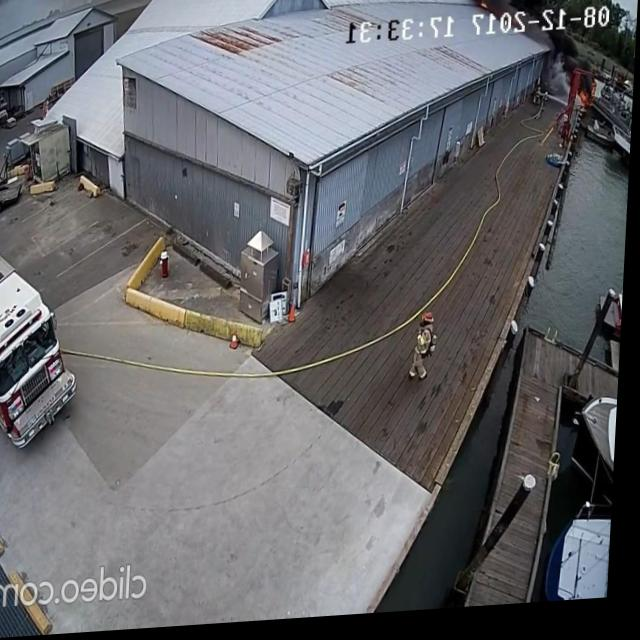fire: (579, 87, 600, 116), (479, 6, 493, 16)
